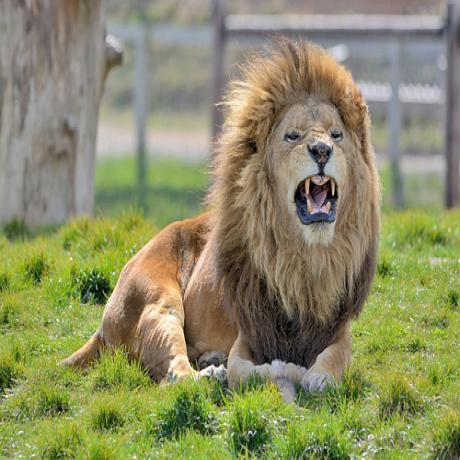Lion: (81, 34, 381, 405)
